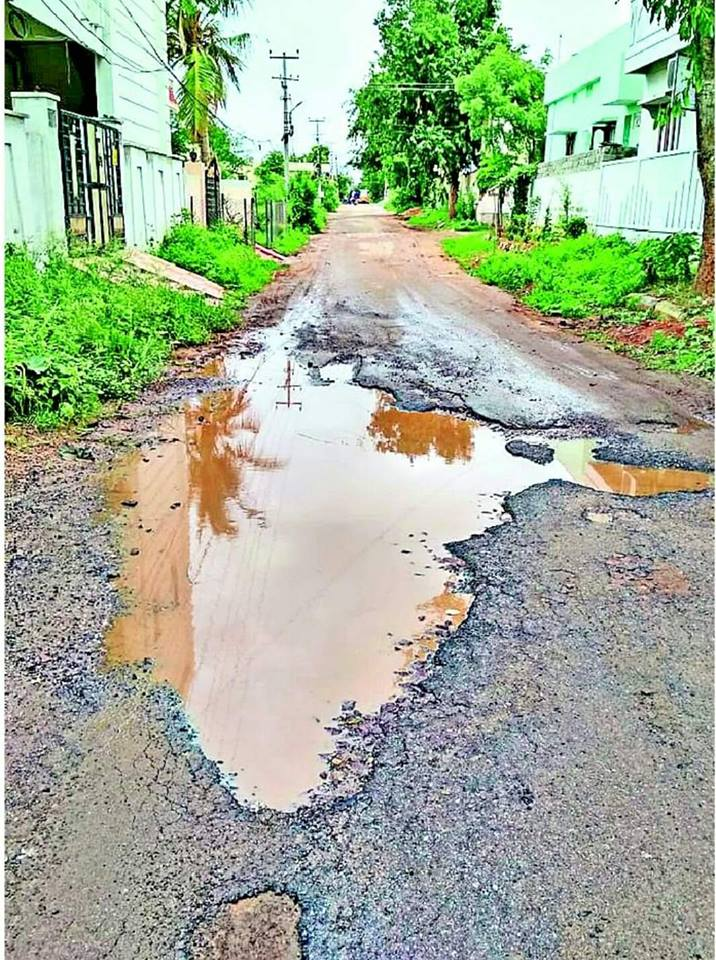pothole: (102, 262, 544, 857)
